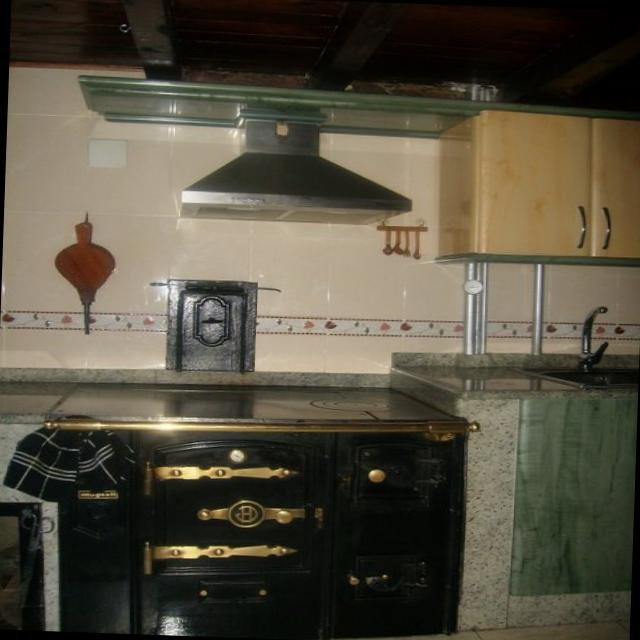cooker eye: (37, 383, 467, 637)
cooker hood: (312, 398, 388, 409)
exhaust hood: (179, 110, 411, 225)
faucet handle: (580, 304, 615, 367)
hand bellows: (54, 218, 114, 330)
handle bar: (565, 205, 621, 252)
kitchen counter: (437, 117, 640, 257)
measuring spoons: (377, 224, 430, 260)
oven hood: (156, 444, 310, 574)
pipe: (528, 266, 547, 359)
pipes: (459, 266, 490, 353)
roof beam: (496, 12, 640, 105), (307, 3, 414, 90), (120, 0, 185, 79)
sink basin: (516, 364, 630, 389)
teatowel: (0, 418, 139, 505)
tile wall: (89, 139, 129, 168)
